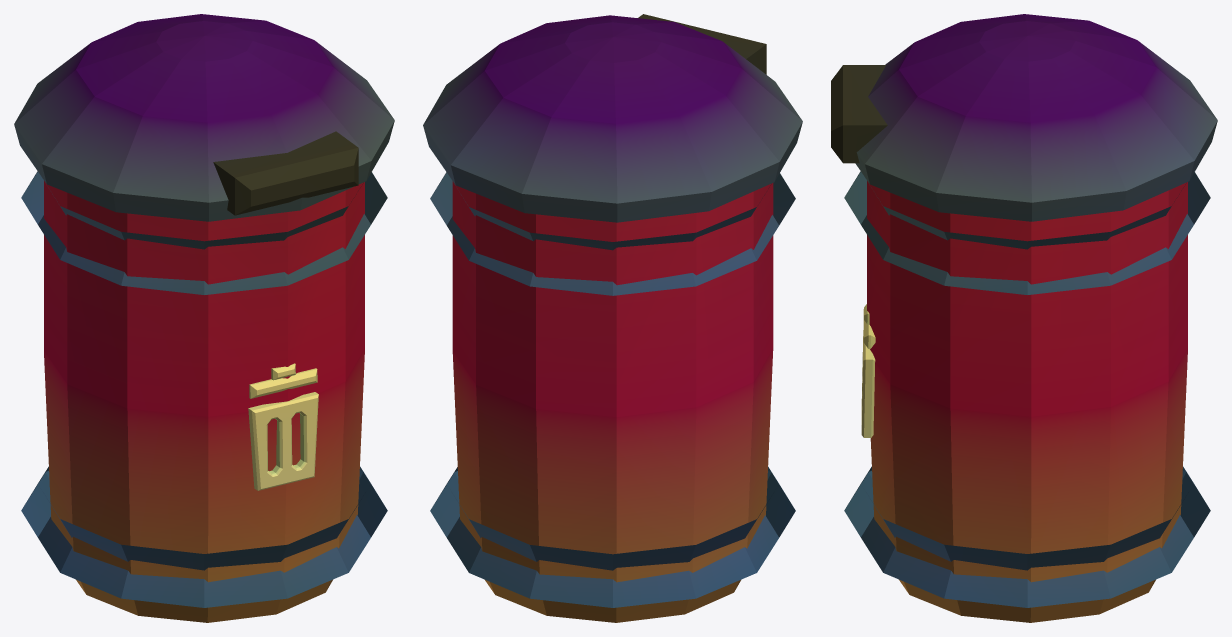
File: Prop_TrashBin.glb
3 renders of one model, left to right at view 1: azimuth 30°, elevation 25°; view 2: azimuth 150°, elevation 25°; view 3: azimuth 270°, elevation 25°, orthographic.
Visible parts, largest first — view 1: Prop_TrashBin; view 2: Prop_TrashBin; view 3: Prop_TrashBin.
Boxes of the visible parts, x1,y1,x2,y2 form: Prop_TrashBin: (14, 14, 394, 622); Prop_TrashBin: (423, 14, 802, 622); Prop_TrashBin: (831, 14, 1217, 622).
Bounding box in the file's own units: 0.6398 × 0.98 × 0.6499.
